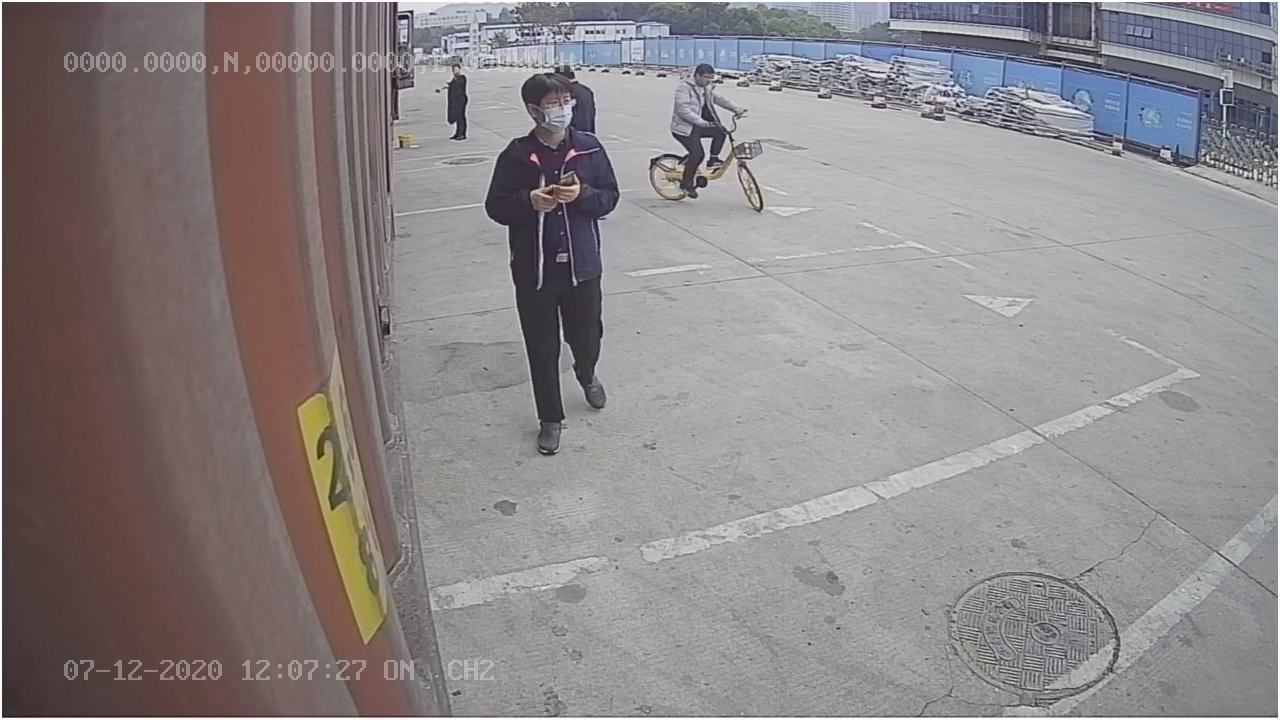person: (485, 74, 621, 459)
